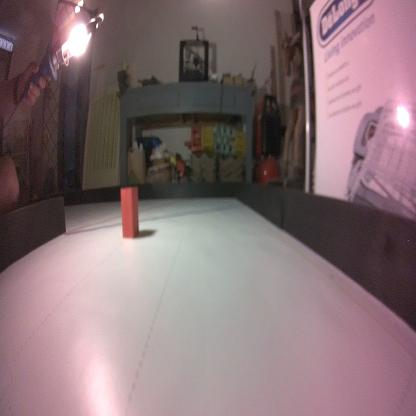red: (118, 184, 140, 237)
